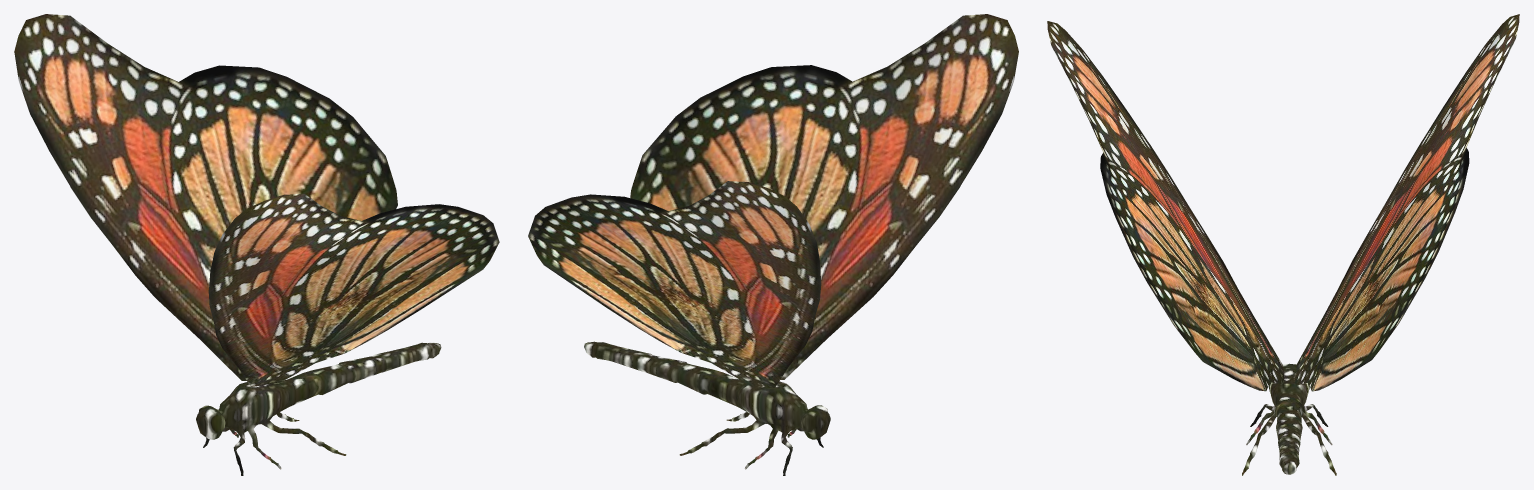
File: butterfly.glb
The picture shows the model from 3 angles, left to right: view 1: azimuth 30°, elevation 25°; view 2: azimuth 150°, elevation 25°; view 3: azimuth 270°, elevation 25°; orthographic projection.
Visible parts, largest first — view 1: obj3, obj2, obj1; view 2: obj2, obj3, obj1; view 3: obj2, obj3, obj1.
Part boxes in pixels (x1,y1,x2,y2): obj3: (14,14,397,380); obj2: (208,193,499,386); obj1: (196,342,441,475); obj2: (630,14,1018,379); obj3: (528,181,821,387); obj1: (584,341,830,475); obj2: (1047,21,1284,391); obj3: (1294,14,1519,391); obj1: (1242,363,1336,475).
Size of the model in its own units: 1.36 by 1.52 by 1.73.
Materials: 1 (1 with a texture image).
